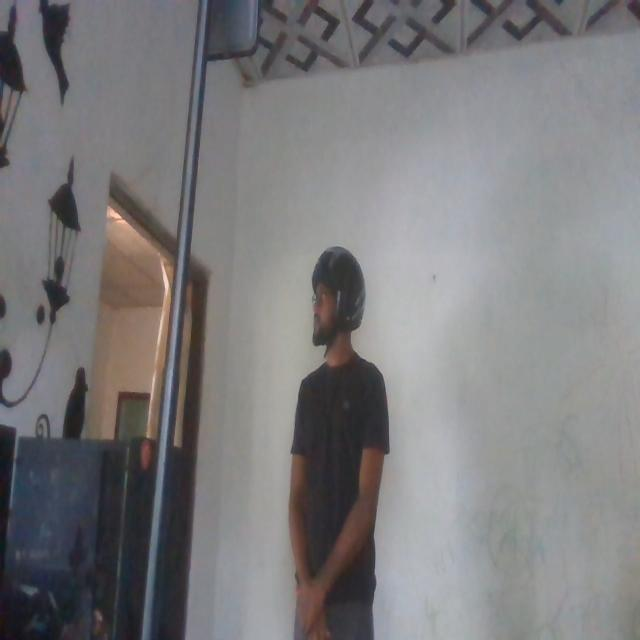Helmet_Wearer: (297, 238, 371, 363)
Person: (277, 233, 405, 640)
